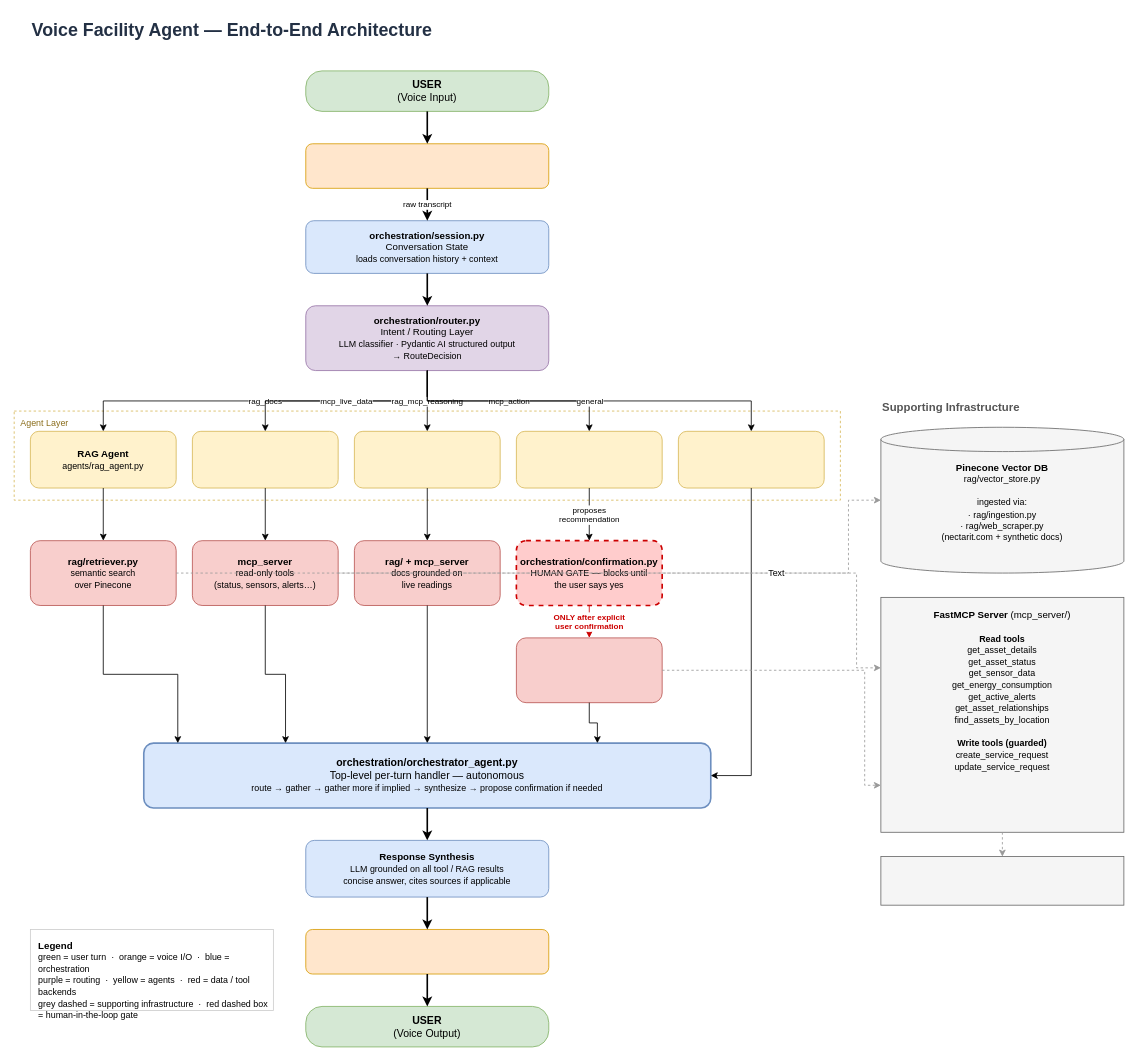
This 1138x1061 diagram has some shape labels left out. The shapes that lost their labels are listed below. From the top down, each one's centre as x and y in pixels, then its label:
At (427,165): "voice/stt.py — Speech-to-Text Whisper / Deepgram".
At (265,459): "Data Agent agents/data_agent.py".
At (427,459): "RAG + MCP Reasoning combination of both".
At (589,459): "Action Agent agents/action_agent.py".
At (751,459): "General LLM agents/general_agent.py".
At (589,670): "mcp_server/tools_action.py create_service_request update_service_request".
At (1002,880): "mock_facility_data.py live facility data source".
At (427,951): "voice/tts.py — Text-to-Speech ElevenLabs / AWS Polly".
